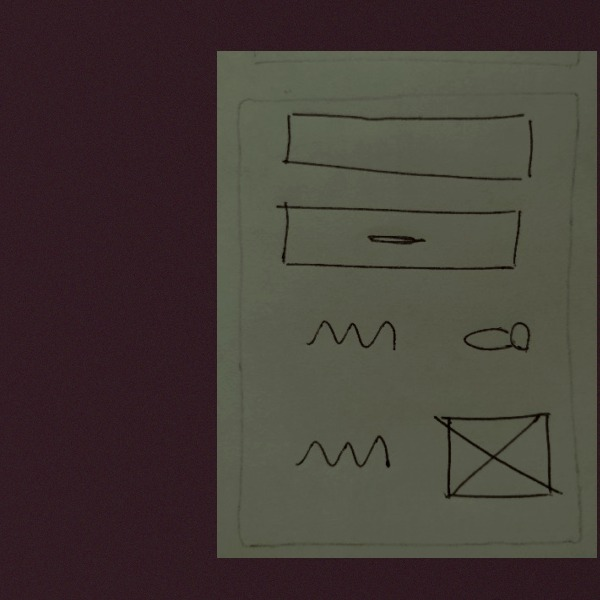button: (274, 200, 530, 284)
image: (429, 409, 569, 502)
switch: (455, 316, 535, 360)
text: (290, 423, 398, 484), (298, 310, 403, 360)
text_input: (280, 106, 538, 191)
